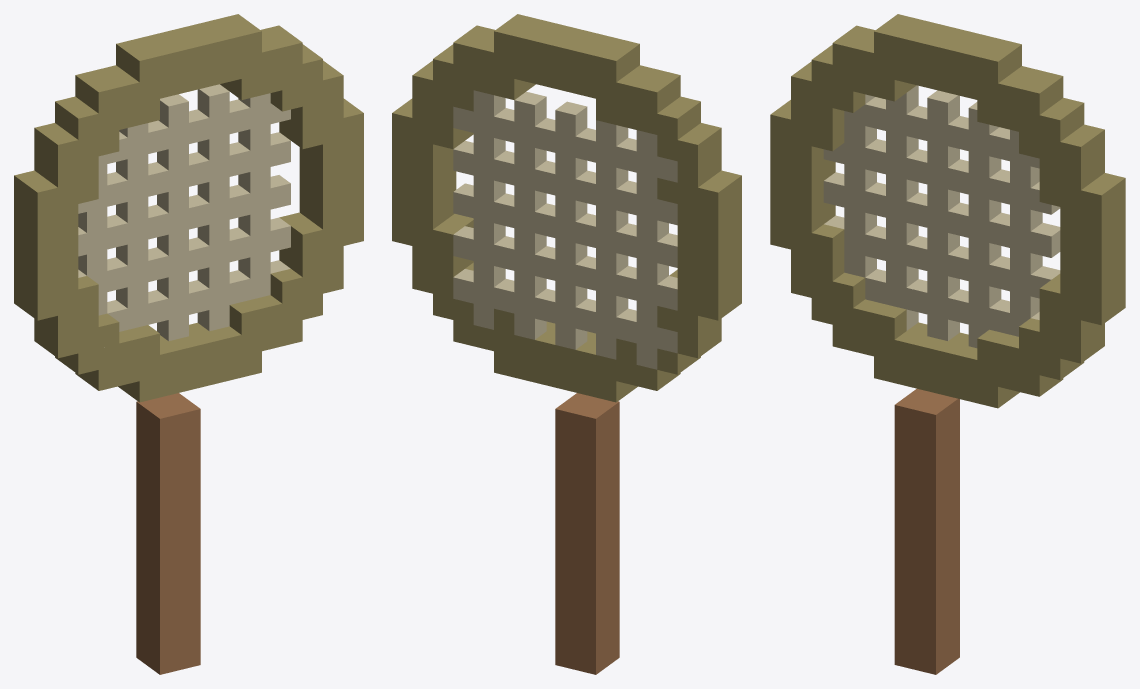
File: sports-05.glb
3 renders of one model, left to right at view 1: azimuth 30°, elevation 25°; view 2: azimuth 150°, elevation 25°; view 3: azimuth 330°, elevation 25°, orthographic.
Parts seen in each view (by area): view 1: Tennis racket; view 2: Tennis racket; view 3: Tennis racket.
Boxes of the visible parts, x1,y1,x2,y2 form: Tennis racket: (14,14,363,674); Tennis racket: (392,14,741,674); Tennis racket: (770,14,1125,674).
Bounding box in the file's own units: 1.28 × 2.32 × 0.16.
